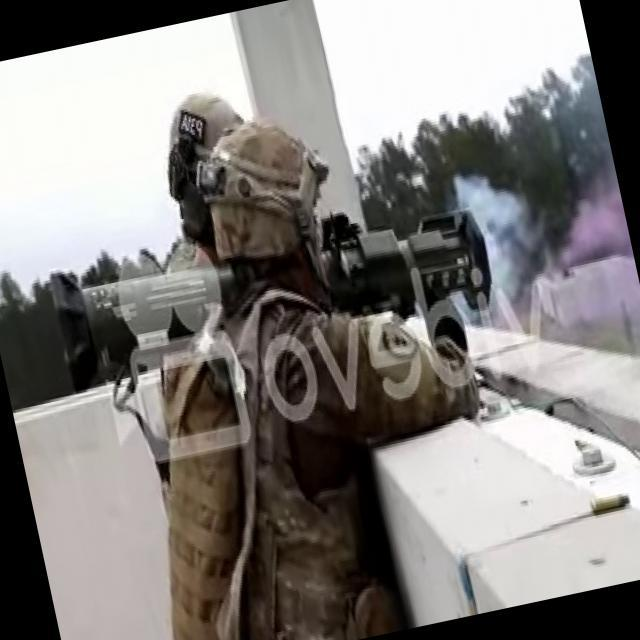rocket: (42, 188, 494, 381)
